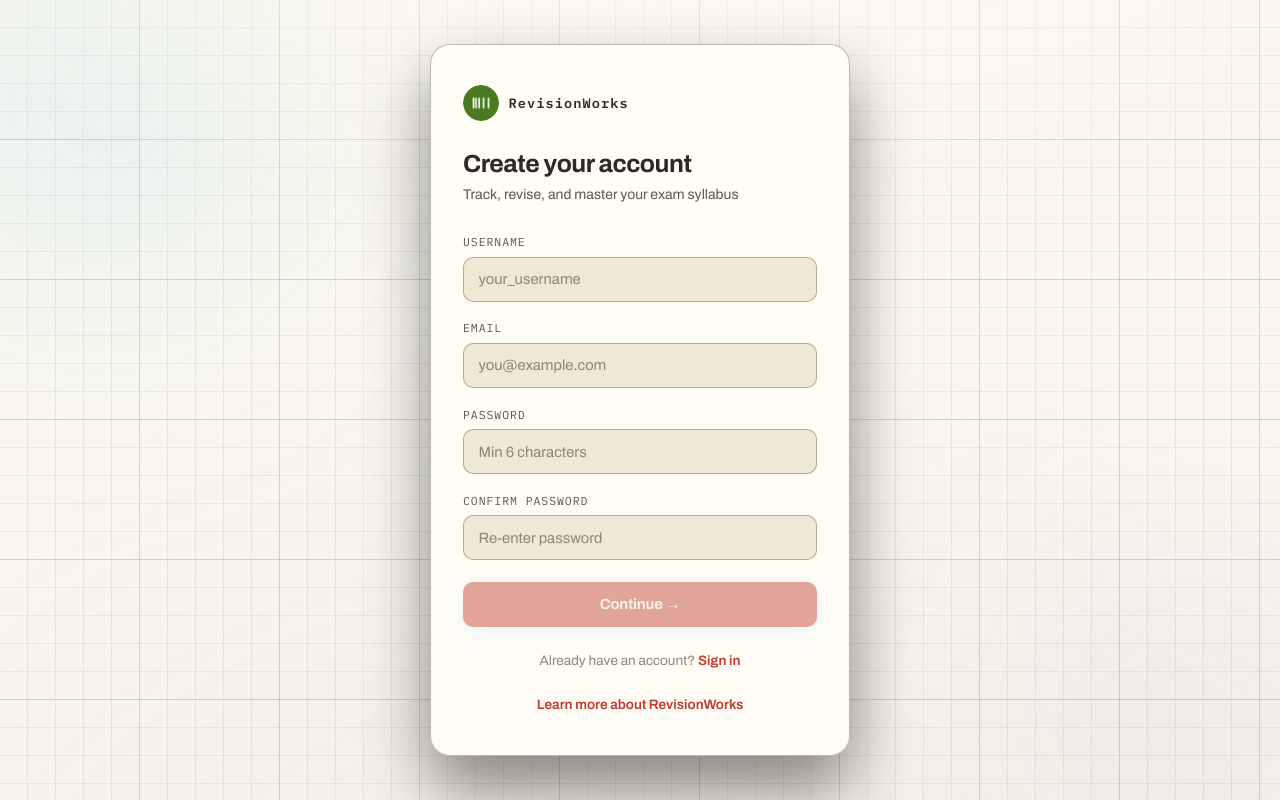
Test case: rejects an invalid email before advancing to domain selection
Step 1. Type "newuser" into the field labelled "Username" → [640, 279], box [463, 257, 817, 302]
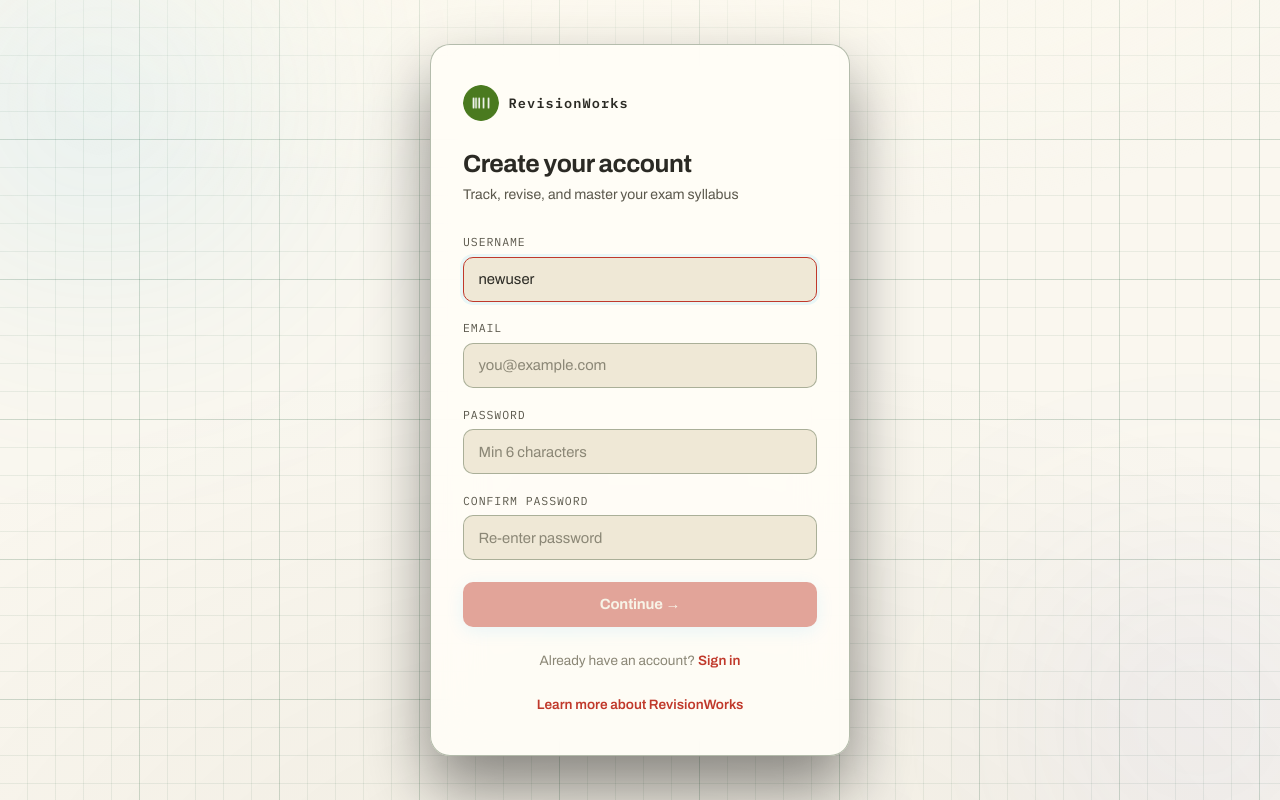
Step 2. Type "not-an-email" into the field labelled "Email" → [640, 365], box [463, 343, 817, 388]
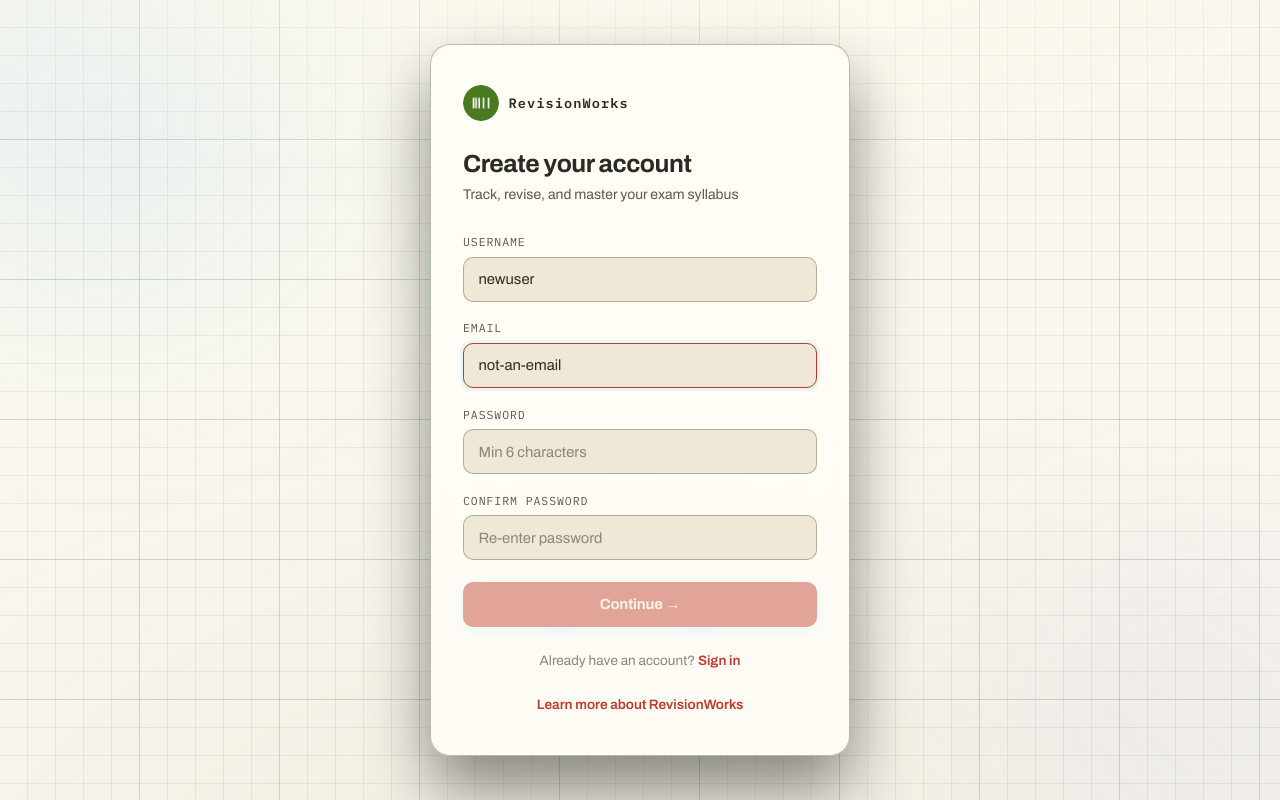
Step 3. Type "password123" into the password field labelled "Password" → [640, 452], box [463, 429, 817, 474]
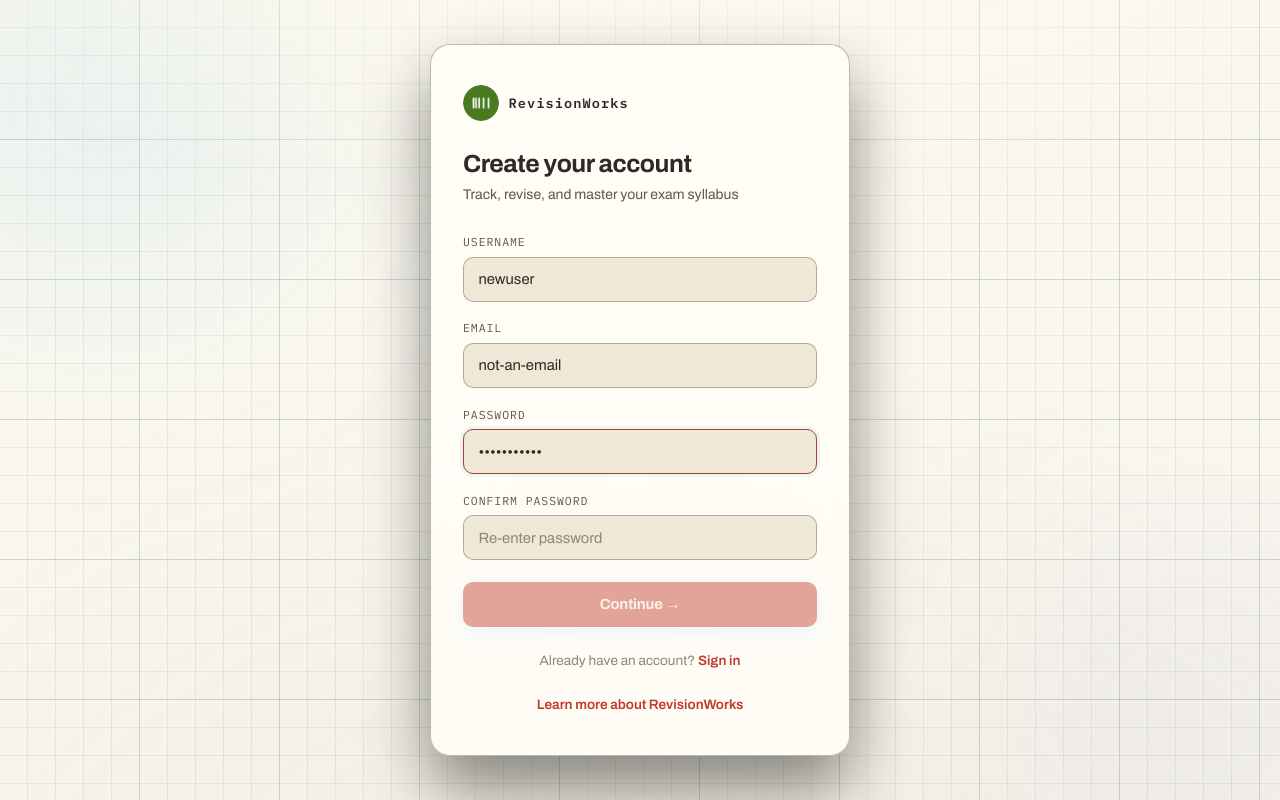
Step 4. Type "password123" into the password field labelled "Confirm Password" → [640, 538], box [463, 515, 817, 560]
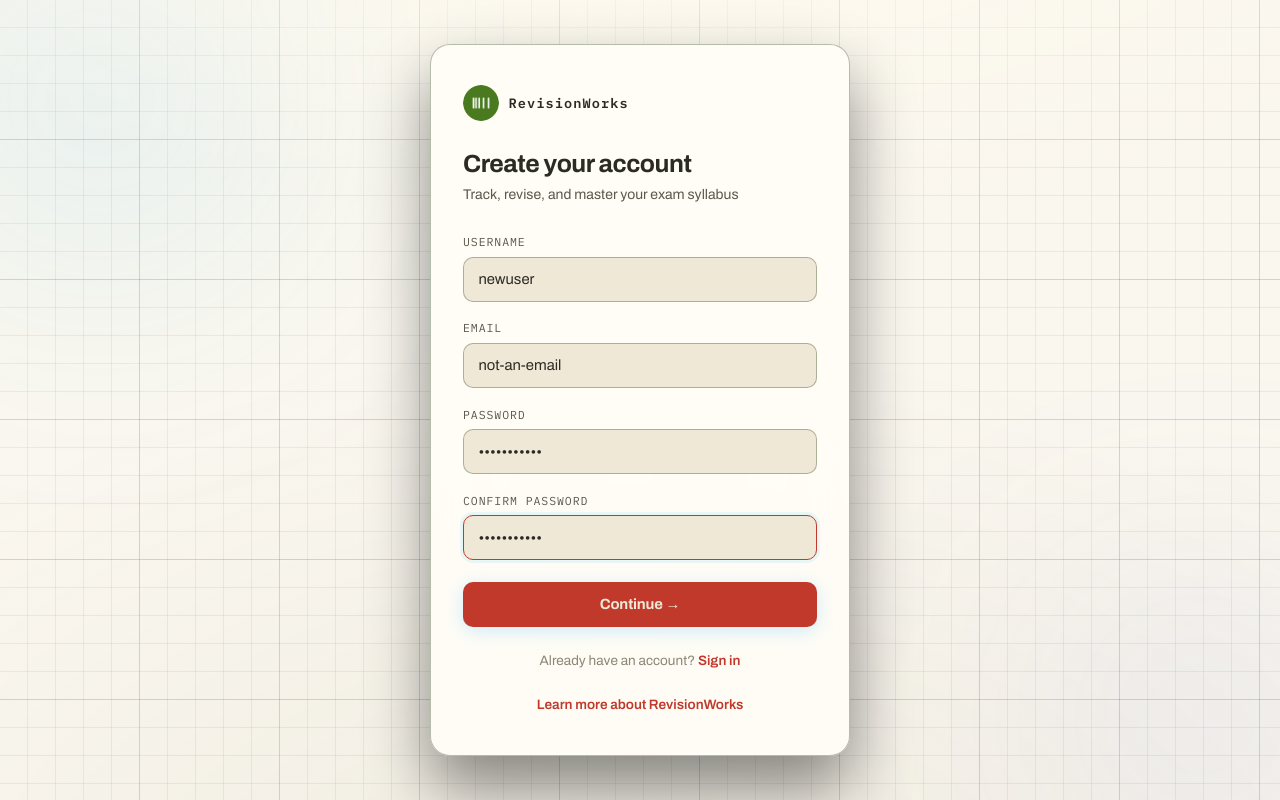
Step 5. Click the button "Continue →" → [640, 604], box [463, 582, 817, 626]
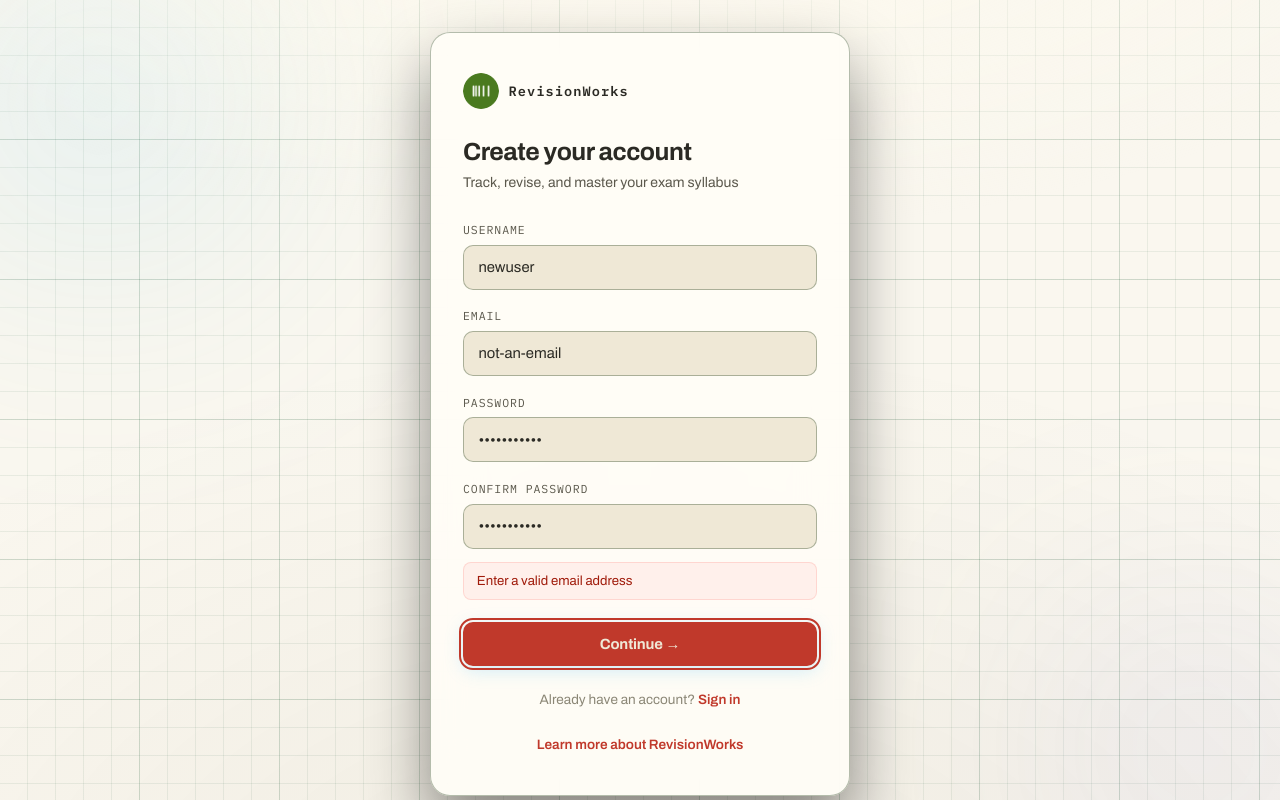
expect the text "Enter a valid email address" is shown: met, box [463, 562, 817, 600]
